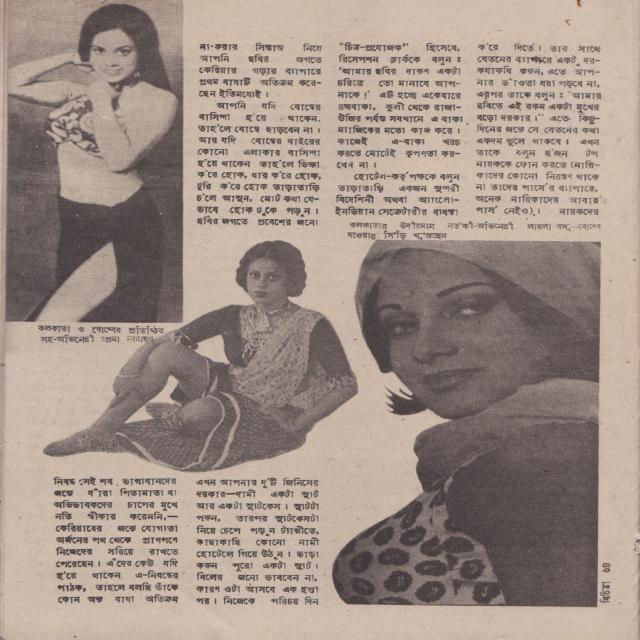caption: (346, 220, 600, 240), (37, 324, 165, 344)
image: (333, 241, 599, 606), (45, 241, 357, 471), (5, 1, 184, 324)
page number: (600, 562, 612, 574)
paragraph: (474, 42, 602, 216), (194, 476, 320, 609), (335, 41, 464, 169), (194, 100, 322, 227), (53, 476, 179, 604), (198, 42, 322, 99), (335, 171, 461, 216)
text: (599, 581, 610, 604)
